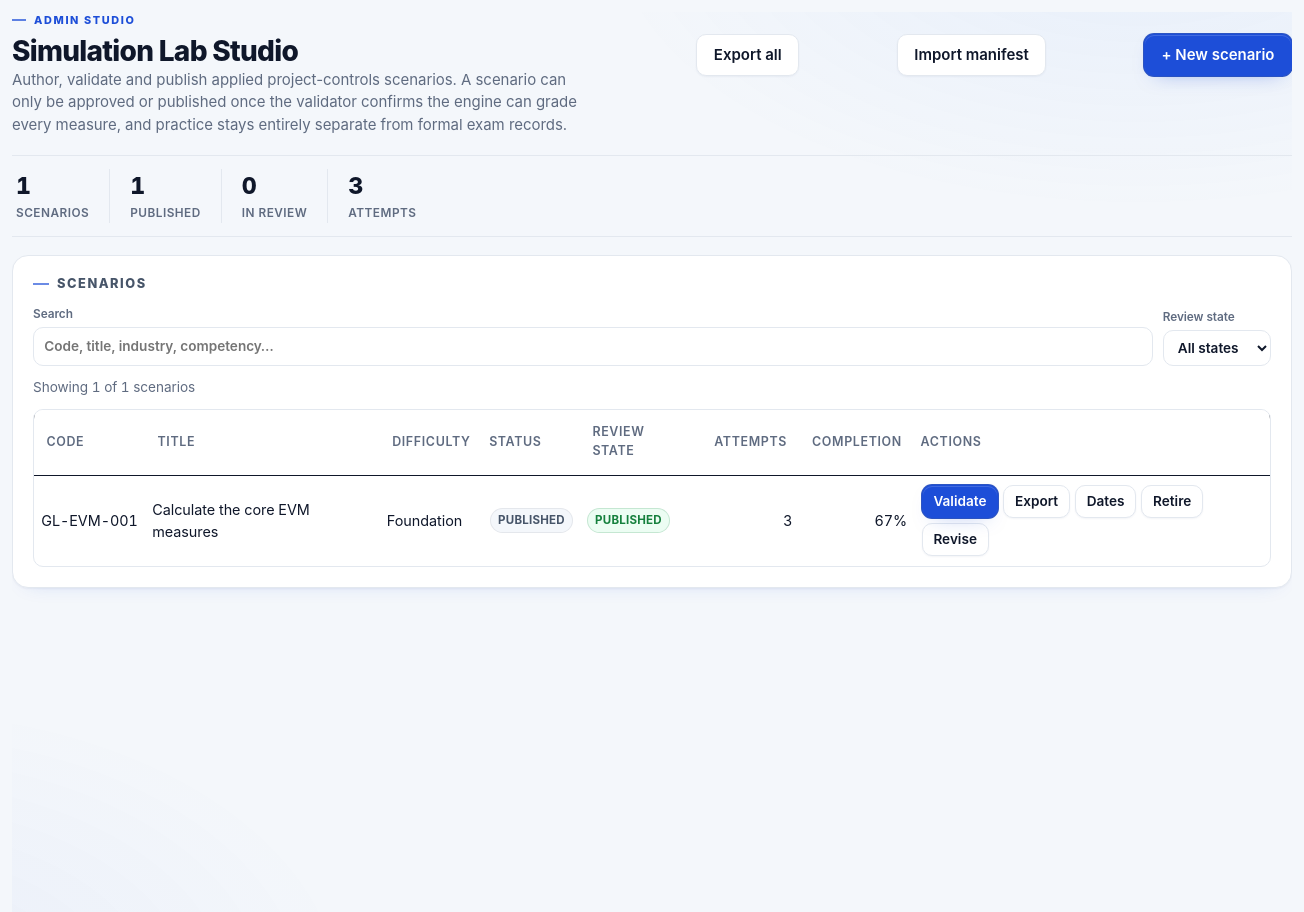
Admin SimLab Studio › manifest export › exports the whole catalogue as one bundle
Click the button "Export all". click: (748, 55)
box: [696, 34, 799, 76]
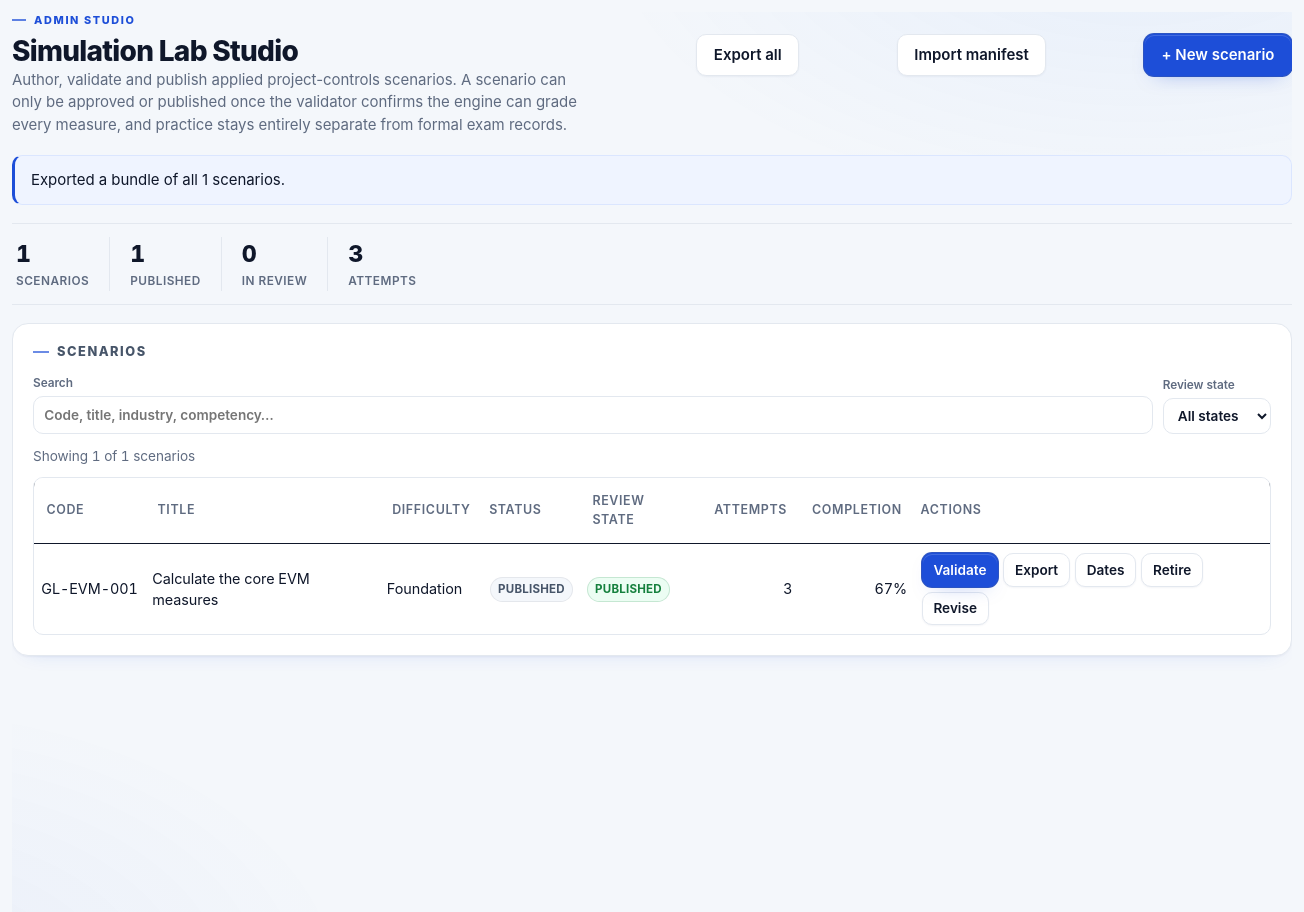
Now the text "Exported a bundle of all 1 scenarios." is shown, box [12, 155, 1292, 205]
